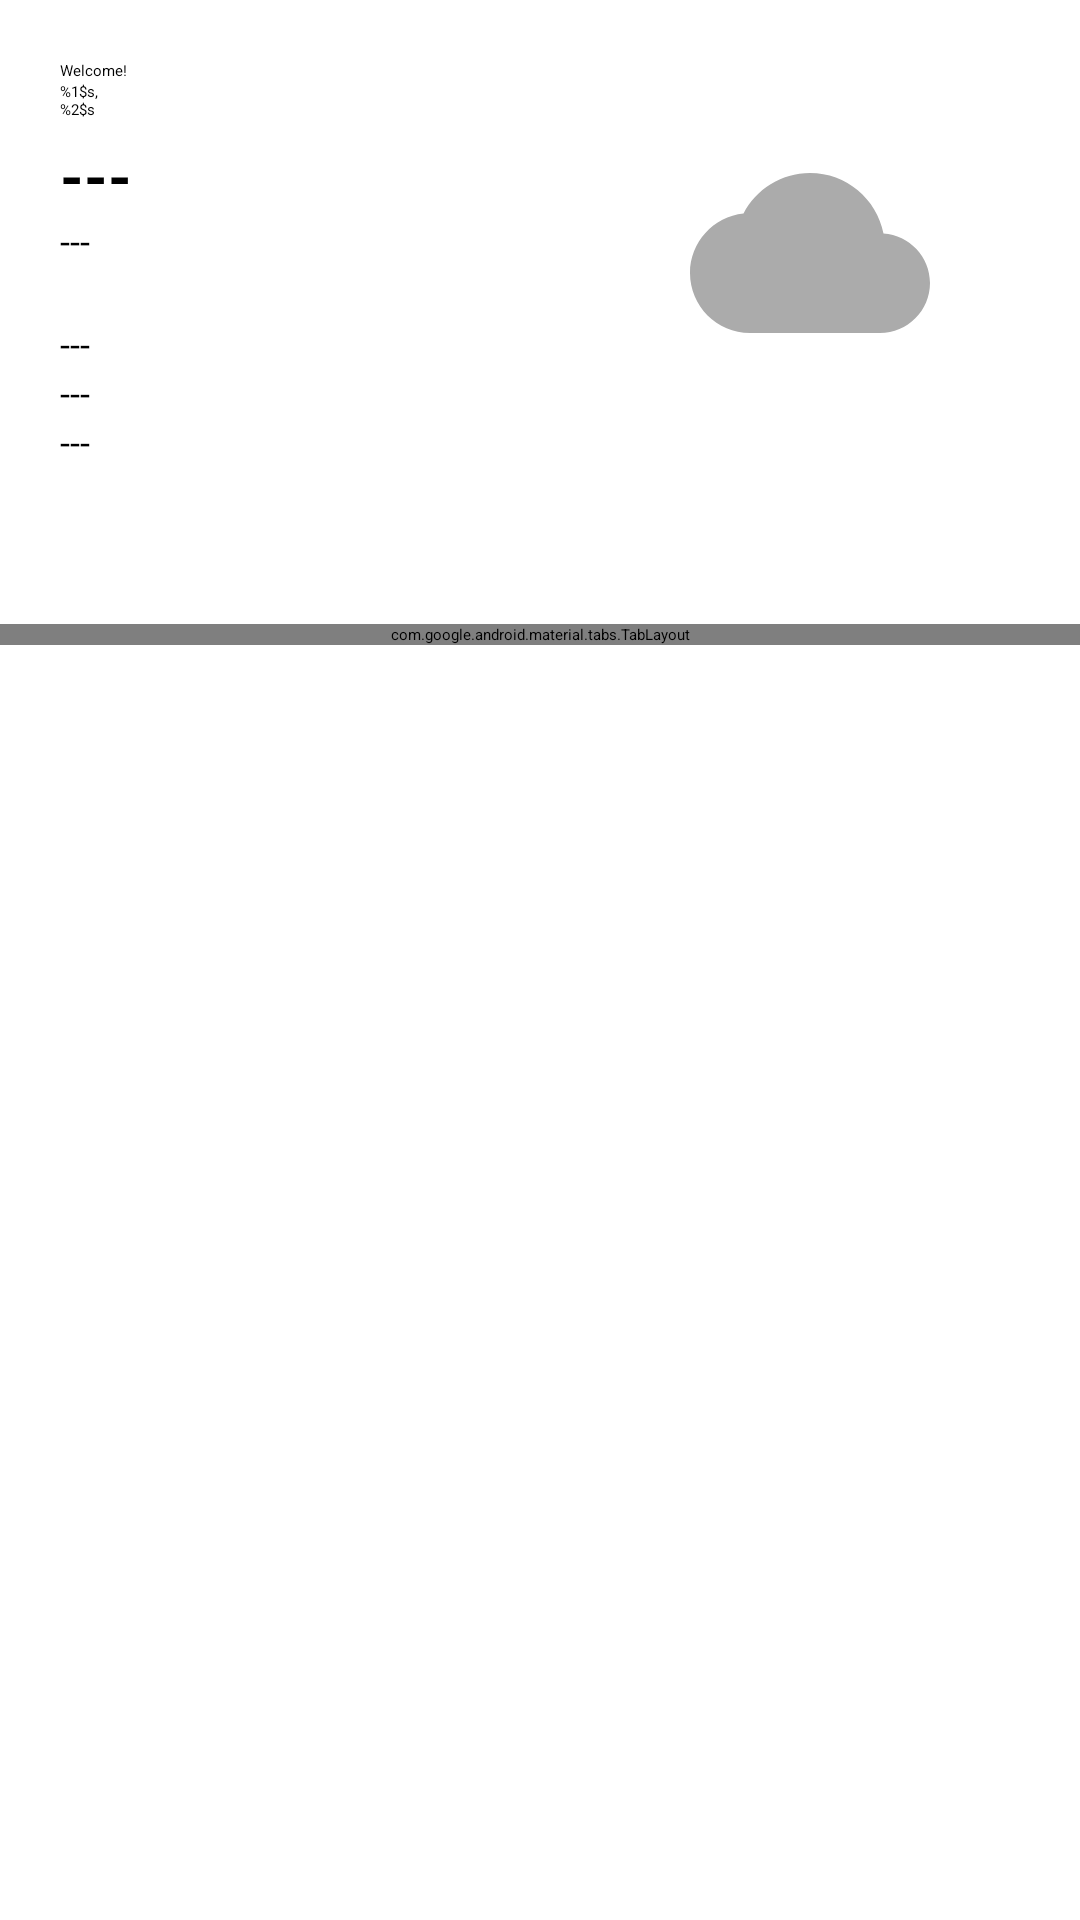

Icons on this 1080*1920 Android screen, each with the point to tap as [x,y]:
cloud: [810,253]
